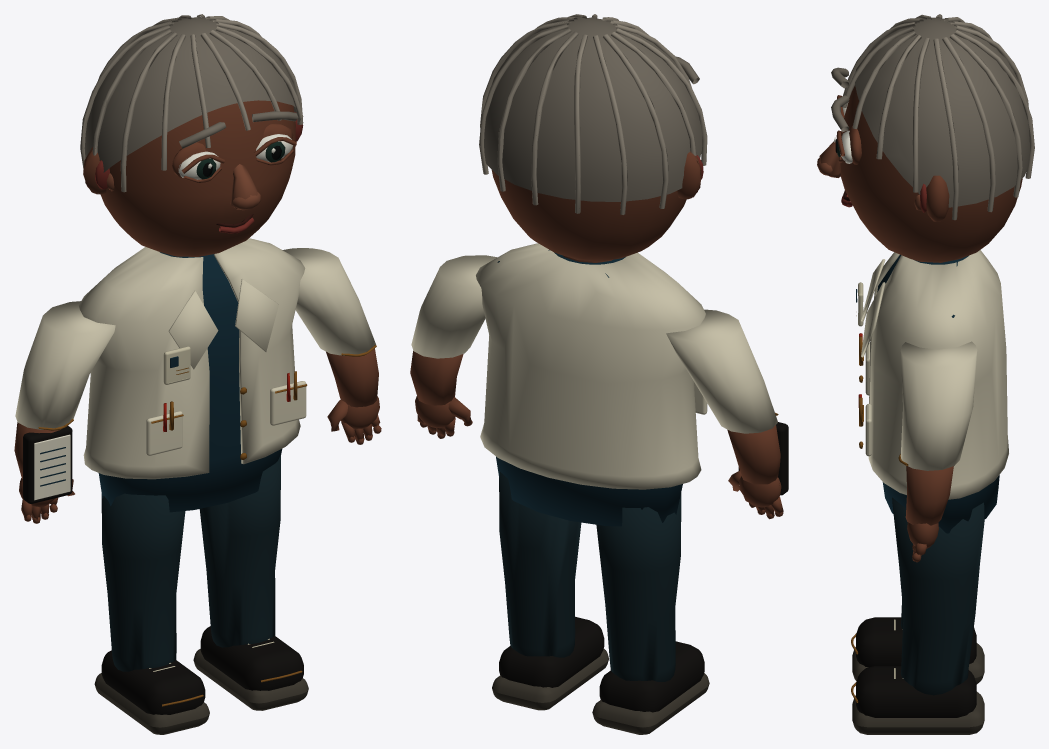
Rendered from doctor-22.glb.
3 renders of one model, left to right at view 1: azimuth 30°, elevation 25°; view 2: azimuth 150°, elevation 25°; view 3: azimuth 270°, elevation 25°, orthographic.
Visible parts, largest first — view 1: Body, Head, LegL, LegR, ArmL, ArmR; view 2: Body, Head, LegL, LegR, ArmL, ArmR; view 3: Head, Body, LegR, ArmR, LegL.
Boxes of the visible parts, x1,y1,x2,y2 form: Body: [79, 217, 307, 512]; Head: [80, 14, 303, 256]; LegL: [94, 493, 209, 734]; LegR: [193, 455, 308, 710]; ArmL: [14, 301, 115, 523]; ArmR: [282, 248, 381, 444]; Body: [476, 243, 707, 526]; Head: [479, 14, 707, 261]; LegL: [592, 493, 709, 734]; LegR: [492, 472, 608, 710]; ArmL: [666, 309, 788, 519]; ArmR: [410, 255, 497, 438]; Head: [817, 14, 1034, 262]; Body: [841, 195, 1008, 533]; LegR: [851, 497, 984, 734]; ArmR: [898, 341, 977, 562]; LegL: [851, 600, 984, 684].
Size of the model in its own units: 0.7166 by 1.27 by 0.3732.
